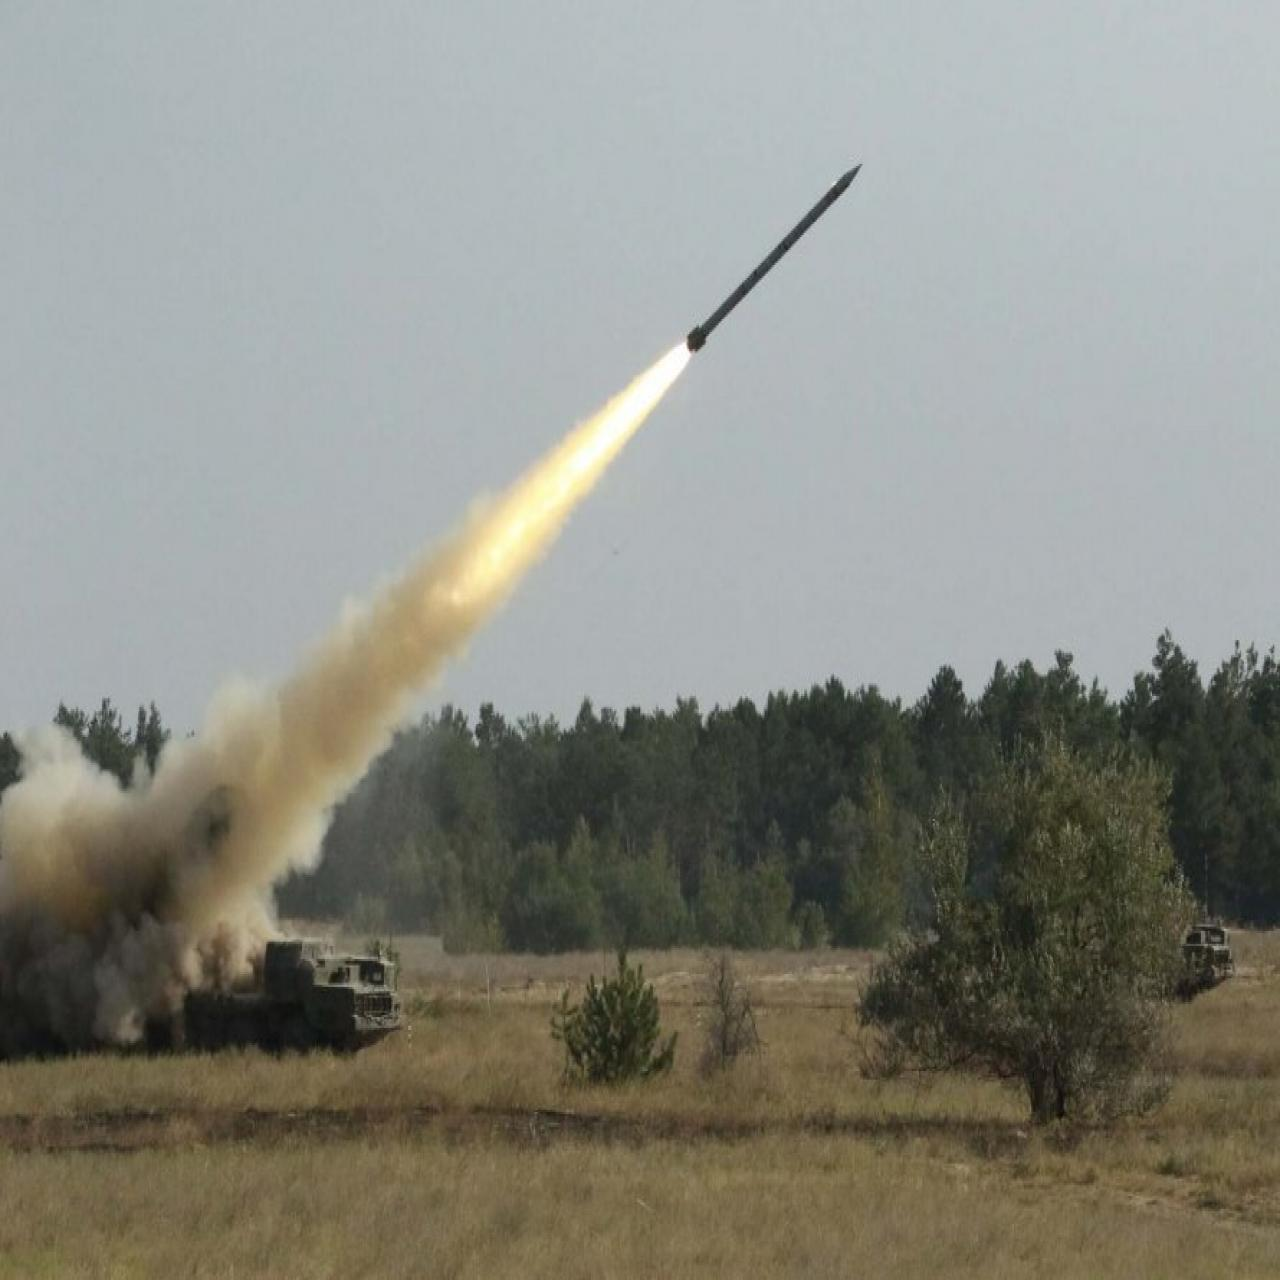MIL_Veh: (178, 939, 409, 1067)
